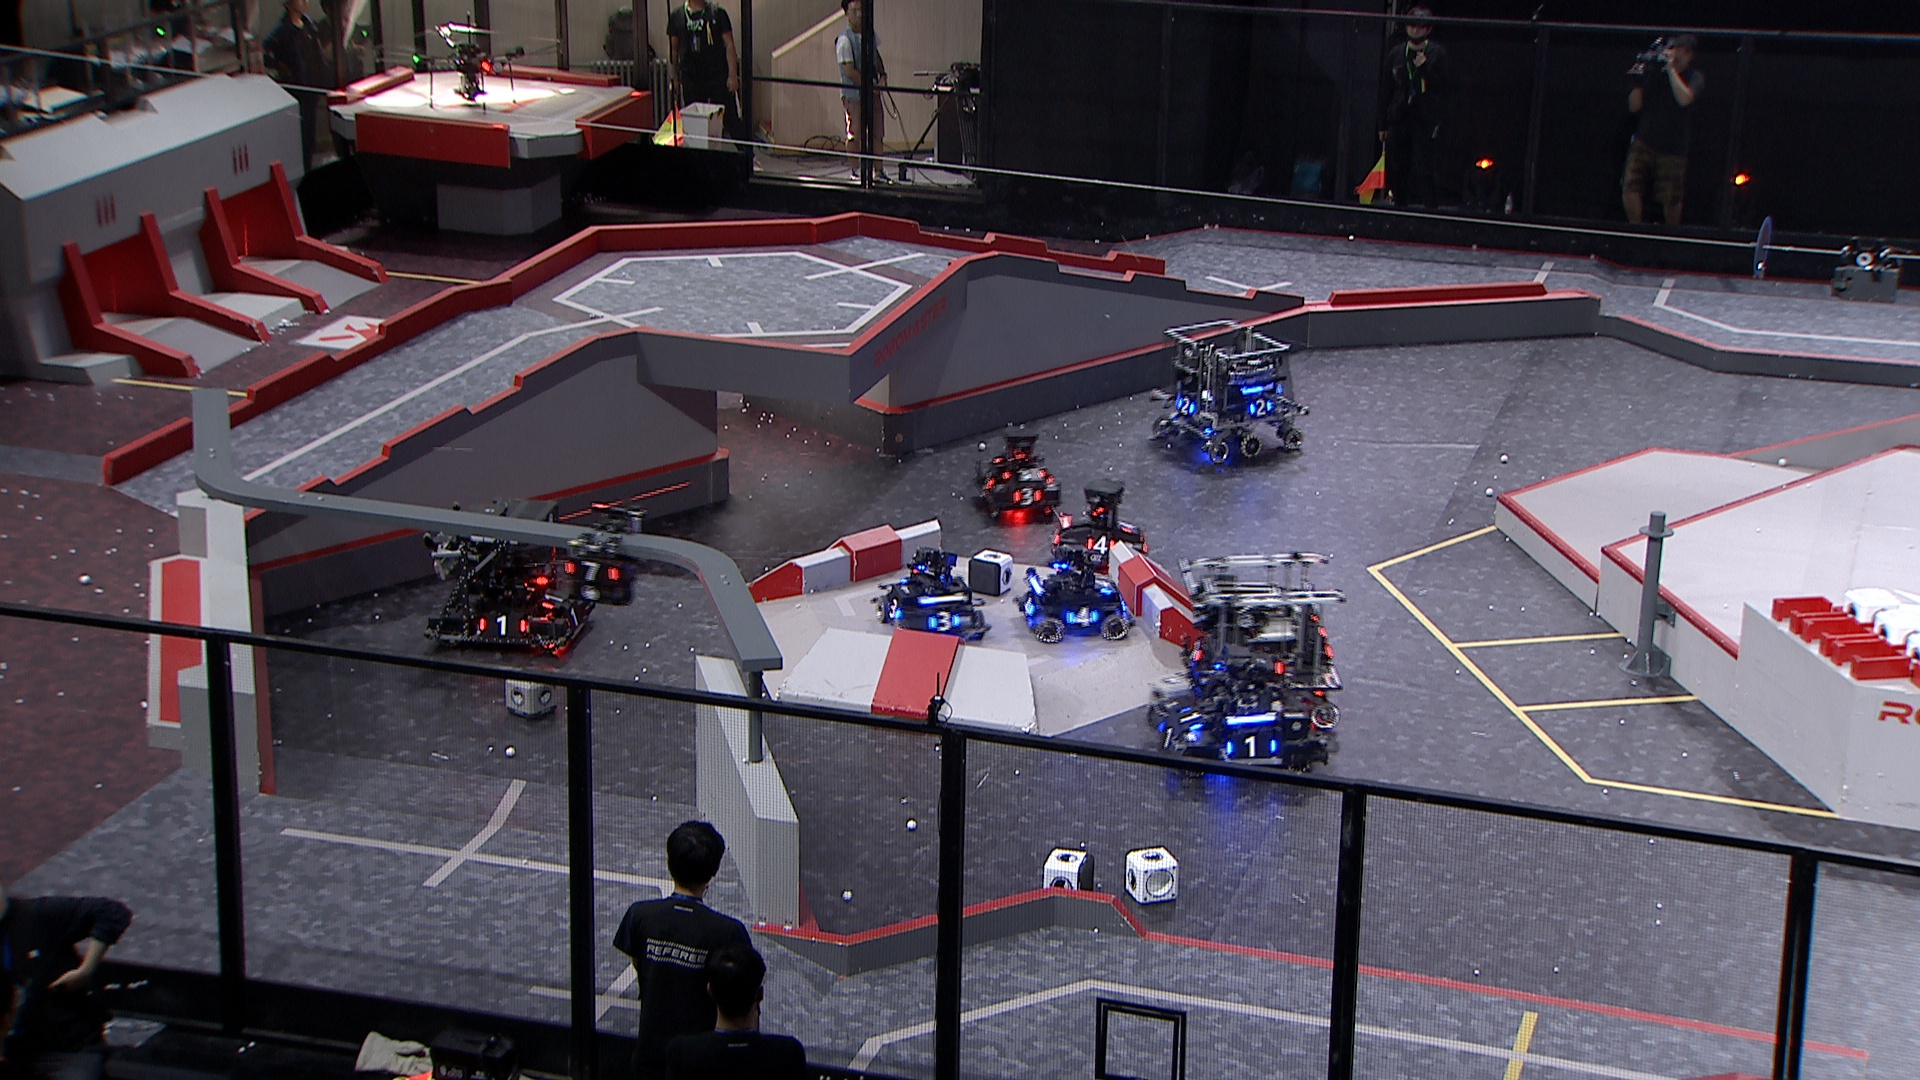armor: (564, 559, 621, 584), (1221, 735, 1276, 760), (473, 616, 527, 640), (1063, 608, 1102, 629), (927, 611, 961, 632), (1153, 723, 1178, 750), (1176, 705, 1203, 731), (1084, 535, 1117, 555), (1001, 467, 1046, 481), (1010, 489, 1040, 509), (882, 600, 905, 622), (1185, 641, 1207, 665), (535, 591, 562, 609), (564, 607, 585, 629), (1247, 400, 1273, 418), (975, 471, 997, 491), (1092, 575, 1114, 595), (1176, 396, 1197, 415), (1021, 595, 1038, 618), (1117, 518, 1139, 535)
car: (1168, 547, 1348, 731), (419, 491, 597, 655), (1145, 641, 1325, 787), (1147, 319, 1309, 465), (1011, 543, 1135, 644), (873, 545, 992, 647), (967, 427, 1067, 524), (1048, 476, 1153, 564)
watcher: (556, 502, 651, 609)
